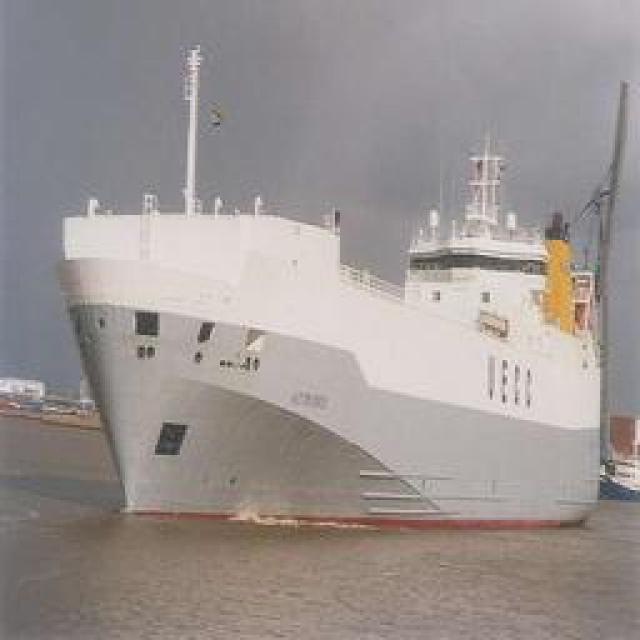Ship: (57, 43, 621, 544)
